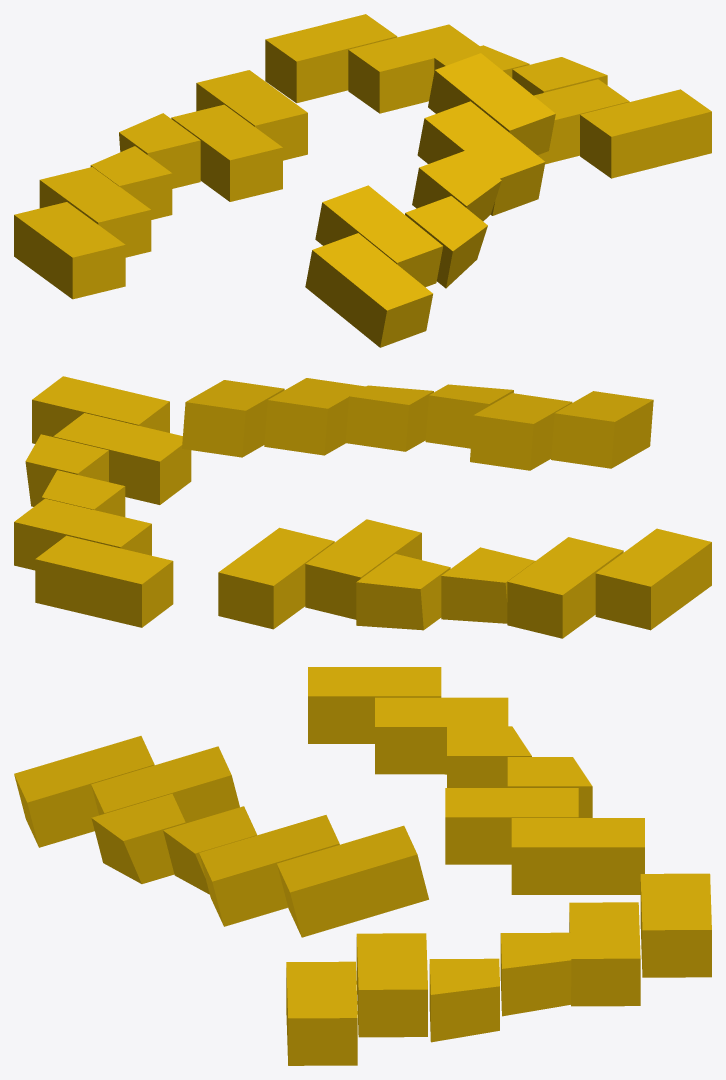
Rendered from Rubble_Cinderblock_03B_Lod1.fbx.
The picture shows the model from 3 angles, top to bottom: view 1: azimuth 30°, elevation 25°; view 2: azimuth 150°, elevation 25°; view 3: azimuth 270°, elevation 25°; orthographic projection. The views are drawn at different scales.
Parts seen in each view (by area): view 1: Rubble_Cinderblock_03B_Lod1; view 2: Rubble_Cinderblock_03B_Lod1; view 3: Rubble_Cinderblock_03B_Lod1.
Boxes of the visible parts, x1,y1,x2,y2 form: Rubble_Cinderblock_03B_Lod1: [14, 14, 711, 347]; Rubble_Cinderblock_03B_Lod1: [14, 376, 711, 638]; Rubble_Cinderblock_03B_Lod1: [14, 667, 711, 1065].
Size of the model in its own units: 318 by 49.17 by 268.
